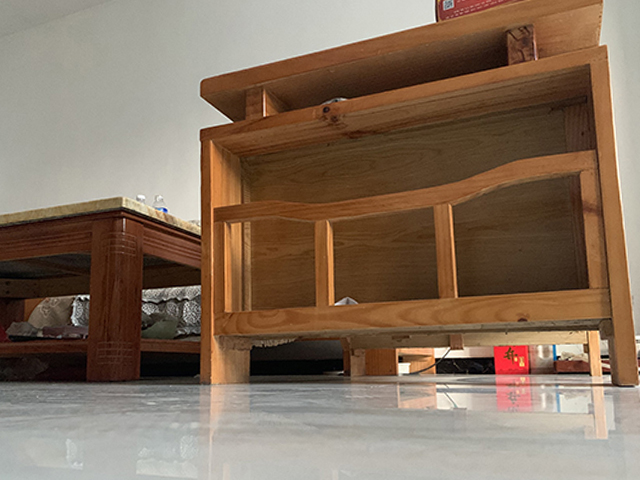sofa: (198, 1, 640, 387)
table: (1, 195, 203, 384)
